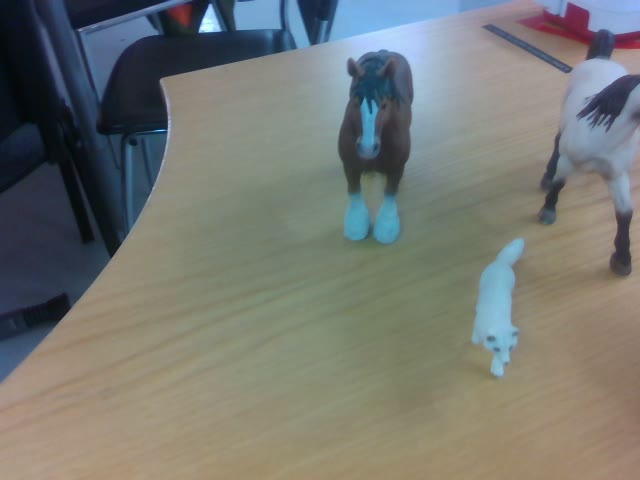toy: (335, 49, 413, 246), (470, 237, 525, 376)
